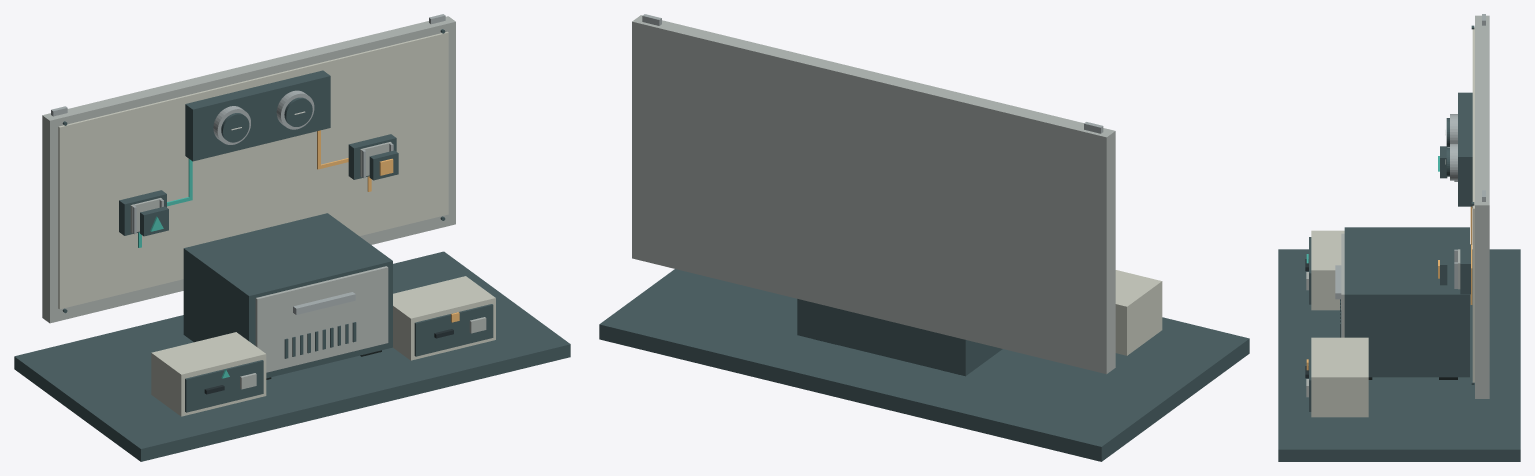
Rendered from blind-fixture.glb.
3 views of the same model, side by side, from view 1: azimuth 30°, elevation 25°; view 2: azimuth 150°, elevation 25°; view 3: azimuth 270°, elevation 25° (orthographic). The views are drawn at different scales.
Parts seen in each view (by area): view 1: Panel_insert, Plinth, Blind_cabinet_305, WallPanel_860, Cabinet_front, Mock_label_block, Station_A_shell, Station_B_shell, Station_B_facade, Station_A_facade, Blind_socket_B, Blind_socket_A (+5 smaller); view 2: WallPanel_860, Plinth, Blind_cabinet_305, Station_A_shell; view 3: Plinth, Blind_cabinet_305, WallPanel_860, Station_B_shell, Station_A_shell, Mock_label_block, Panel_insert, Blind_socket_B, Cabinet_front, Inert_indicator_1_rim, Key_B_body.
Part boxes in pixels (<box>): Panel_insert: <box>58,31,448,309</box>; Plinth: <box>14,251,570,461</box>; Blind_cabinet_305: <box>183,213,392,378</box>; WallPanel_860: <box>42,16,455,323</box>; Cabinet_front: <box>255,266,388,372</box>; Mock_label_block: <box>185,70,330,161</box>; Station_A_shell: <box>151,332,266,416</box>; Station_B_shell: <box>393,276,495,360</box>; Station_B_facade: <box>414,304,493,356</box>; Station_A_facade: <box>185,360,263,412</box>; Blind_socket_B: <box>348,134,396,179</box>; Blind_socket_A: <box>119,190,166,235</box>; WallPanel_860: <box>632,15,1115,374</box>; Plinth: <box>599,269,1249,461</box>; Blind_cabinet_305: <box>797,299,1002,375</box>; Station_A_shell: <box>1115,270,1162,355</box>; Plinth: <box>1278,249,1520,461</box>; Blind_cabinet_305: <box>1344,227,1469,377</box>; WallPanel_860: <box>1475,15,1489,398</box>; Station_B_shell: <box>1311,337,1368,417</box>; Station_A_shell: <box>1311,230,1344,310</box>; Mock_label_block: <box>1458,92,1472,206</box>; Panel_insert: <box>1472,27,1474,382</box>; Blind_socket_B: <box>1460,244,1470,294</box>; Cabinet_front: <box>1341,233,1344,337</box>; Inert_indicator_1_rim: <box>1450,143,1457,180</box>; Key_B_body: <box>1440,253,1447,285</box>.
Bounding box in the file's own units: 0.91 × 0.5425 × 0.465.
